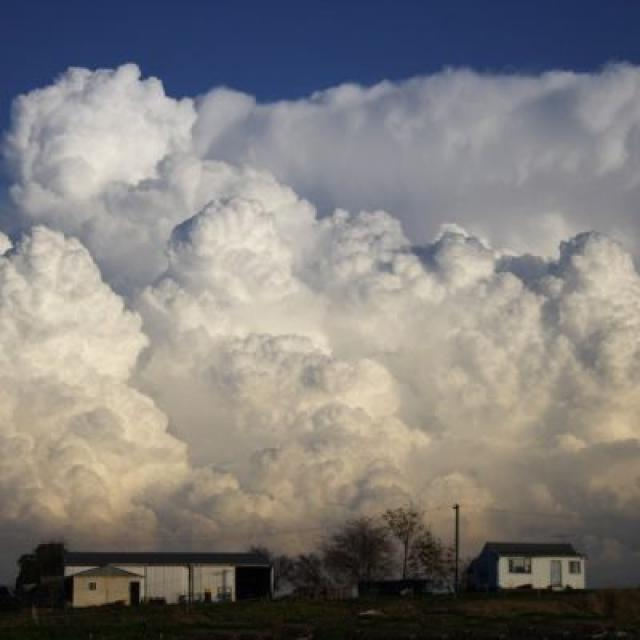cumulonimbus: (8, 55, 634, 532)
